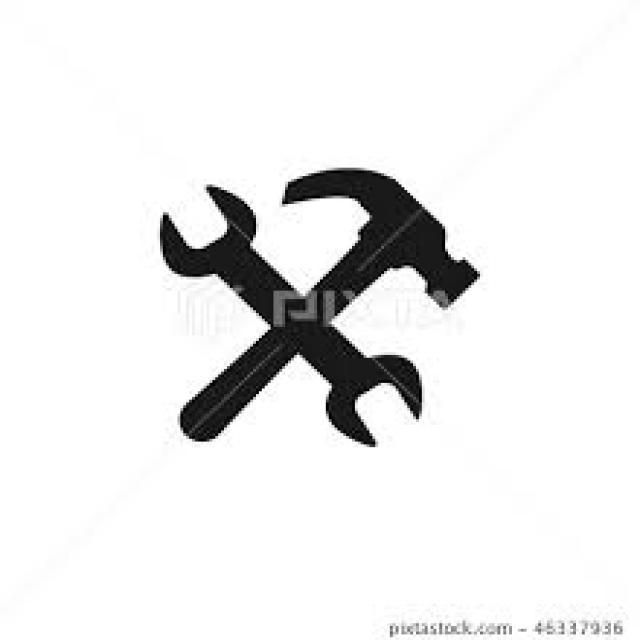hammer: (274, 160, 486, 330)
wrench: (287, 304, 428, 452), (148, 175, 279, 324)
